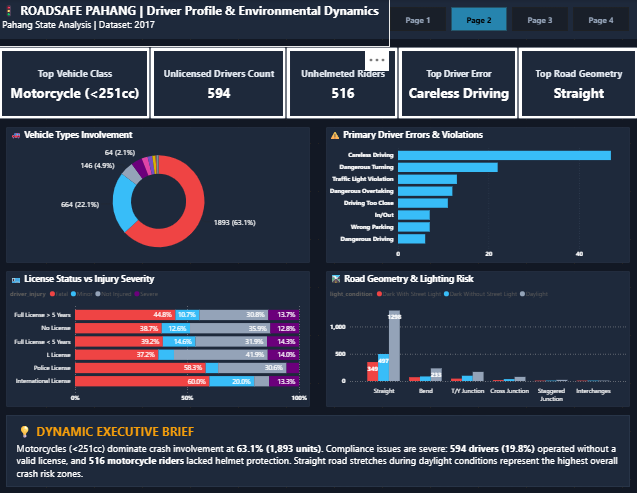

What the dashboard file says about the page in this screenshot:
{"tool":"powerbi","page":{"name":"Page 2","canvas":[1280,1000],"ordinal":1},"visuals":[{"type":"cardVisual","fields":{"Data":["road_accident_cleaned.Unlicensed Drivers Count"]},"box":[304,96,272,144],"z":0},{"type":"cardVisual","fields":{"Data":["road_accident_cleaned.Top Driver Error"]},"box":[800,96,240,144],"z":1000},{"type":"cardVisual","fields":{"Data":["road_accident_cleaned.Unhelmeted Riders"]},"box":[576,96,224,144],"z":2000},{"type":"cardVisual","fields":{"Data":["road_accident_cleaned.Top Road Geometry"]},"box":[1040,96,240,144],"z":3000},{"type":"cardVisual","fields":{"Data":["road_vehicle_cleaned.Top Vehicle Class"]},"box":[0,96,304,144],"z":4000},{"type":"shape","box":[0,0,1280,80],"z":5000},{"type":"textbox","box":[0,0,784,96],"z":6000},{"type":"pageNavigator","box":[784,16,480,48],"z":7000},{"type":"clusteredBarChart","title":"⚠️ Primary Driver Errors & Violations","fields":{"Category":["road_vehicle_cleaned.driver_errors"],"Y":["CountNonNull(road_vehicle_cleaned.vehicle_id)"]},"box":[656,256,608,272],"z":8000},{"type":"clusteredColumnChart","title":"🛣️ Road Geometry & Lighting Risk","fields":{"Category":["road_vehicle_cleaned.road_geometry"],"Series":["road_vehicle_cleaned.light_condition"],"Y":["CountNonNull(road_vehicle_cleaned.report_number)"]},"box":[656,544,608,272],"z":9000},{"type":"shape","box":[16,832,1248,144],"z":10000},{"type":"textbox","title":"💡 DYNAMIC EXECUTIVE BRIEF","box":[32,848,1216,128],"z":11000},{"type":"donutChart","title":"🚗 Vehicle Types Involvement","fields":{"Category":["road_vehicle_cleaned.vehicle_type"],"Y":["CountNonNull(road_vehicle_cleaned.vehicle_id)"]},"box":[16,256,608,272],"z":12000},{"type":"hundredPercentStackedBarChart","title":"🪪 License Status vs Injury Severity","fields":{"Category":["road_vehicle_cleaned.license_status"],"Series":["road_vehicle_cleaned.driver_injury"],"Y":["CountNonNull(road_vehicle_cleaned.vehicle_id)"]},"box":[16,544,608,272],"z":13000}]}

Visuals, with their boxes in screenshot pixels (x1, y1, x2, y2), scaled from the page's 1280x1000 canvas onto the 637x493 screenshot:
cardVisual - road_accident_cleaned.Unlicensed Drivers Count: [151, 47, 287, 118]
cardVisual - road_accident_cleaned.Top Driver Error: [398, 47, 518, 118]
cardVisual - road_accident_cleaned.Unhelmeted Riders: [287, 47, 398, 118]
cardVisual - road_accident_cleaned.Top Road Geometry: [518, 47, 636, 118]
cardVisual - road_vehicle_cleaned.Top Vehicle Class: [0, 47, 151, 118]
shape: [0, 0, 636, 39]
textbox: [0, 0, 390, 47]
pageNavigator: [390, 8, 629, 32]
"⚠️ Primary Driver Errors & Violations" clusteredBarChart: [326, 126, 629, 260]
"🛣️ Road Geometry & Lighting Risk" clusteredColumnChart: [326, 268, 629, 402]
shape: [8, 410, 629, 481]
"💡 DYNAMIC EXECUTIVE BRIEF" textbox: [16, 418, 621, 481]
"🚗 Vehicle Types Involvement" donutChart: [8, 126, 311, 260]
"🪪 License Status vs Injury Severity" hundredPercentStackedBarChart: [8, 268, 311, 402]
